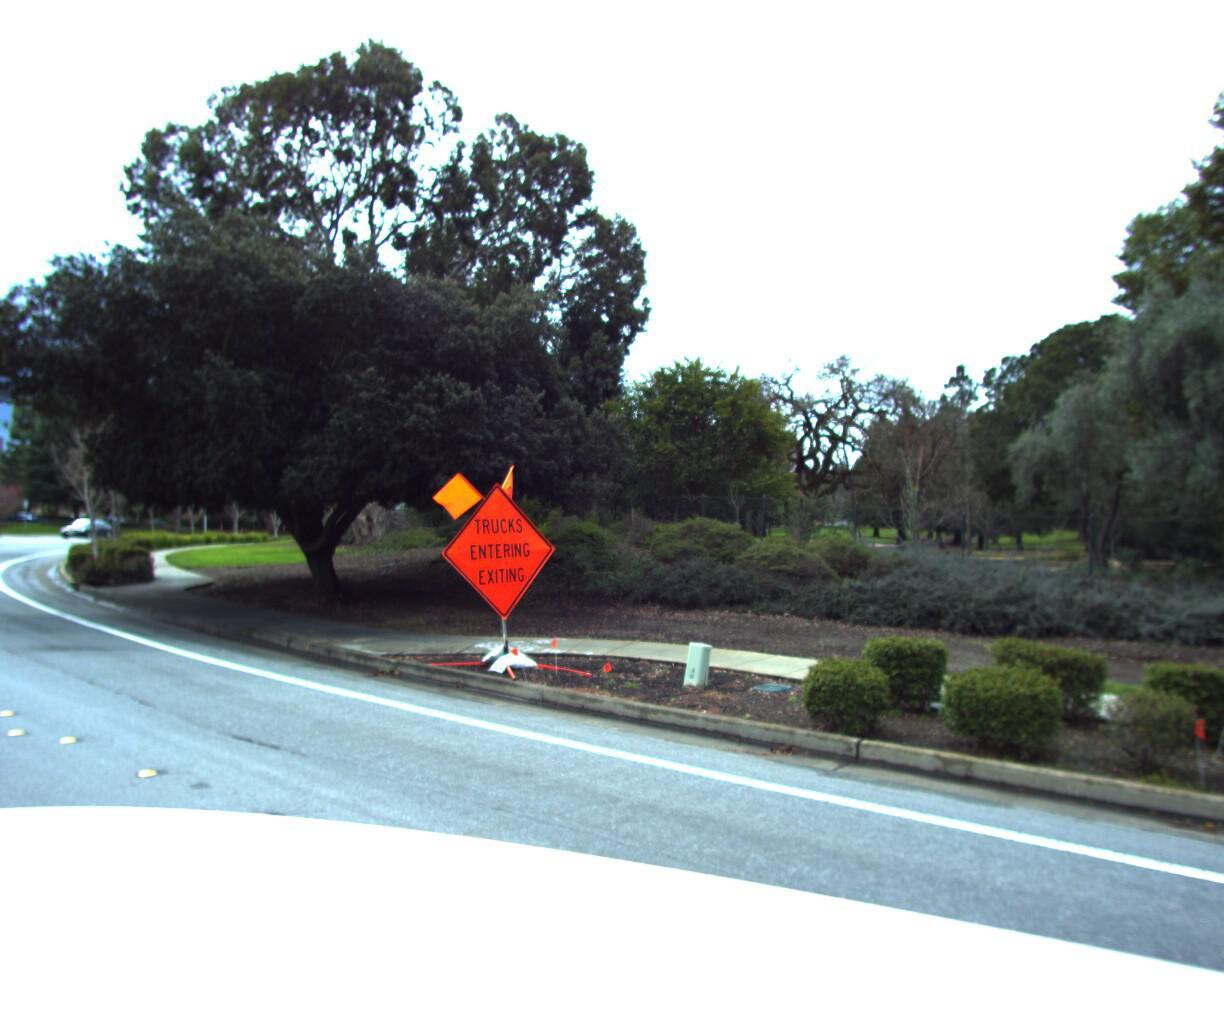car: (53, 524, 112, 549)
